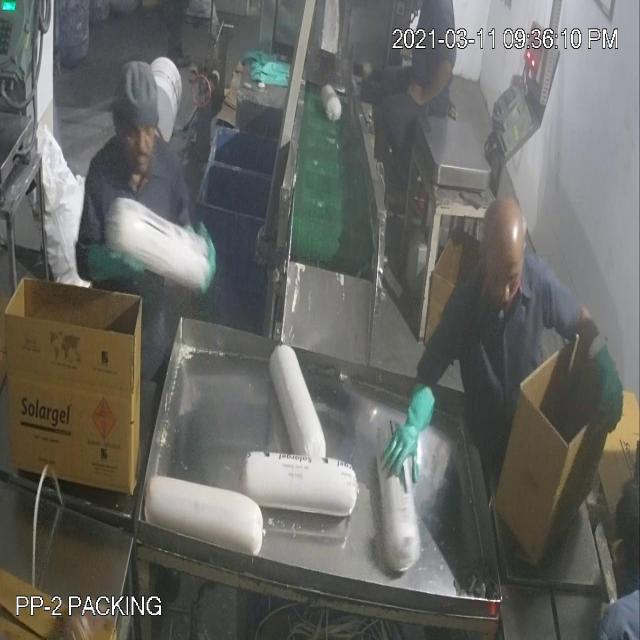gloves: (387, 363, 443, 489)
no-gloves: (402, 53, 458, 119)
